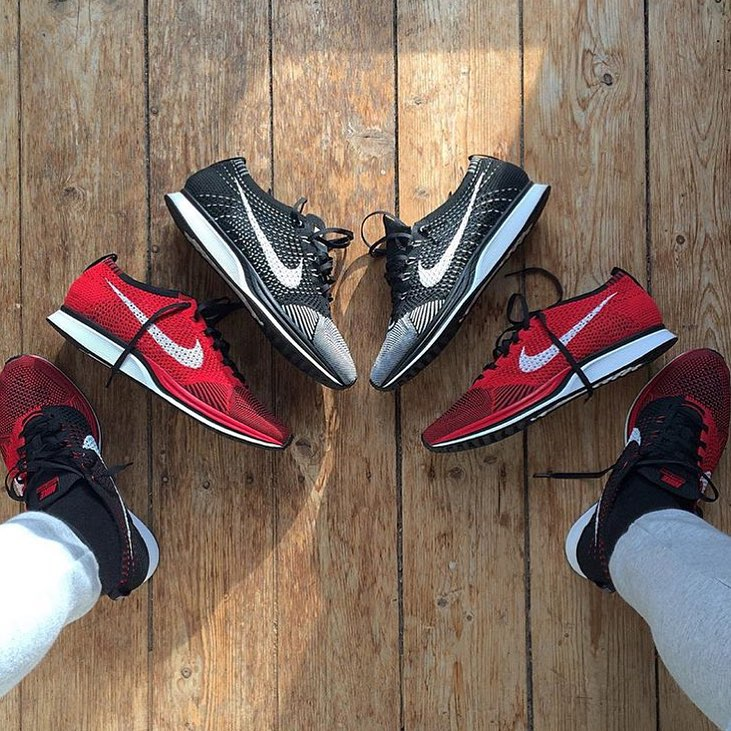sneaker: (544, 326, 731, 604), (1, 342, 175, 611)
